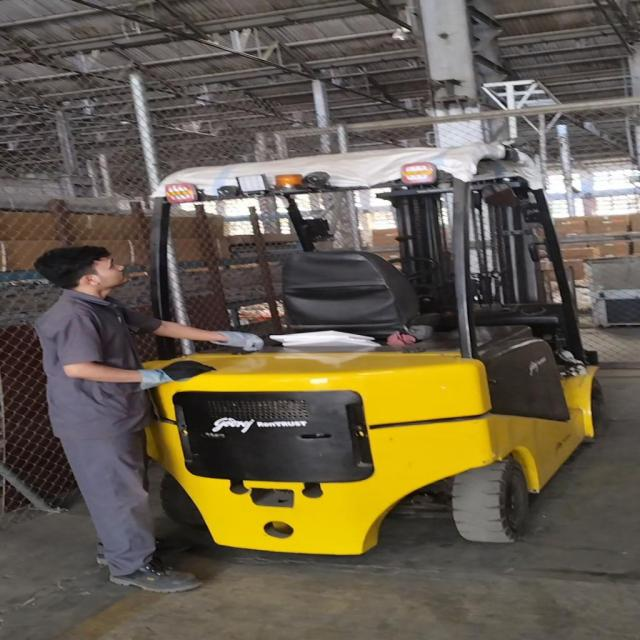Gloves-Detection: (137, 360, 219, 389), (206, 328, 274, 351)
